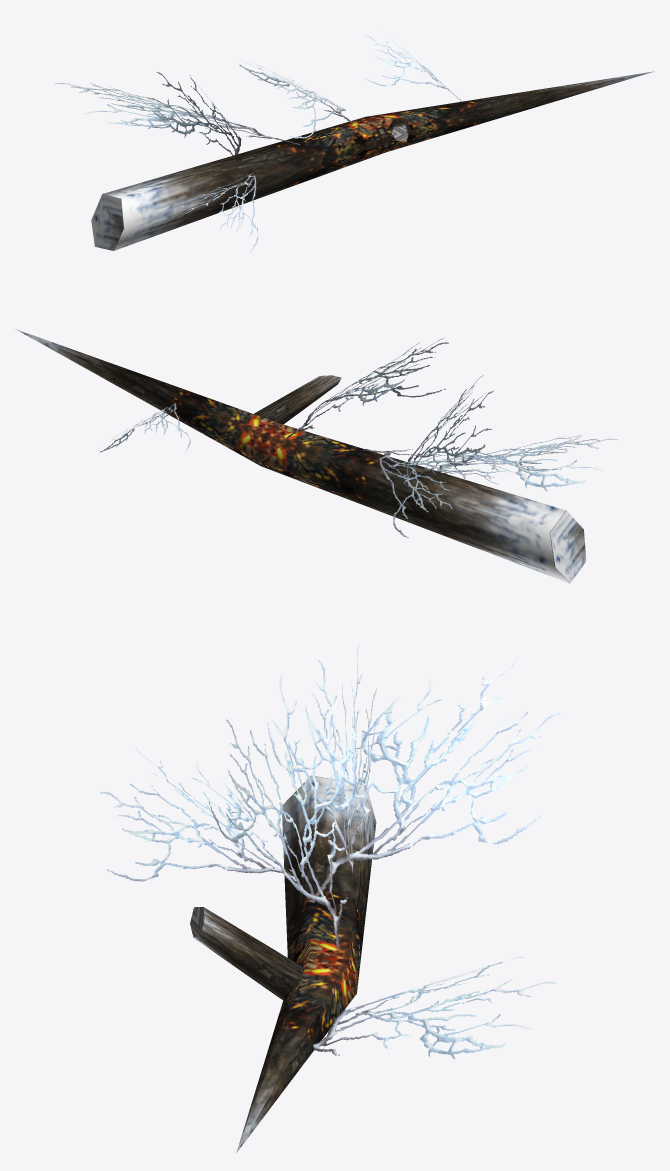
The model's file is Snow_Tree03.FBX.
3 renders of one model, top to bottom at view 1: azimuth 30°, elevation 25°; view 2: azimuth 150°, elevation 25°; view 3: azimuth 270°, elevation 25°, orthographic. The views are drawn at different scales.
Parts seen in each view (by area): view 1: Snow_Tree03; view 2: Snow_Tree03; view 3: Snow_Tree03.
Part boxes in pixels (x1,y1,x2,y2): Snow_Tree03: (55, 28, 654, 252); Snow_Tree03: (15, 329, 617, 583); Snow_Tree03: (100, 644, 560, 1152).
Bounding box in the file's own units: 1540 × 507 × 935.
